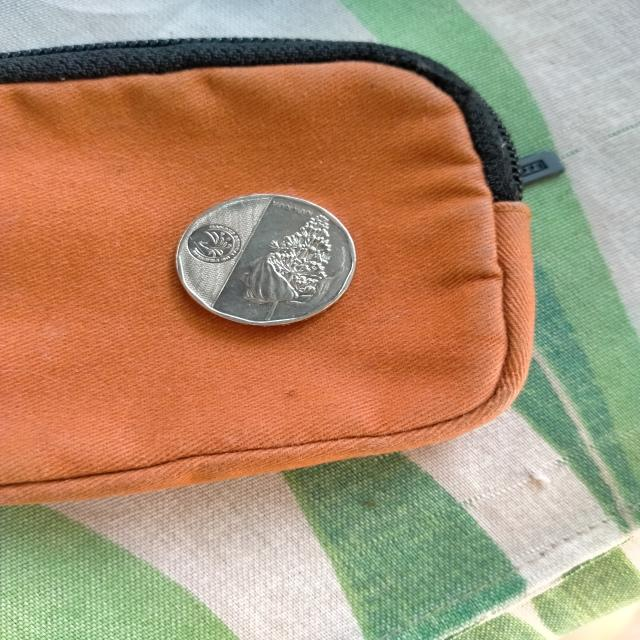10_New_Back: (238, 210, 340, 325)
